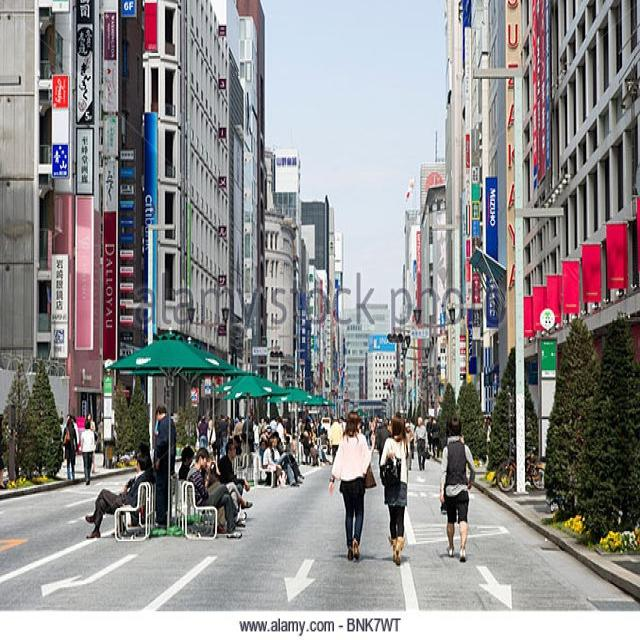body: (196, 404, 445, 474), (326, 409, 377, 562), (84, 450, 159, 540), (438, 412, 478, 564), (183, 445, 247, 539), (378, 415, 410, 567), (177, 443, 228, 534), (202, 443, 254, 522), (152, 403, 177, 530), (216, 439, 251, 497), (273, 436, 306, 485), (270, 435, 300, 488), (61, 418, 78, 483), (79, 419, 95, 488), (262, 436, 285, 484), (84, 410, 100, 475), (325, 414, 344, 466), (376, 419, 392, 479), (414, 415, 429, 472), (297, 419, 314, 465), (0, 410, 9, 491), (210, 418, 224, 467), (205, 409, 217, 461), (481, 412, 492, 466), (241, 414, 255, 454), (428, 416, 441, 459), (134, 442, 152, 472), (55, 416, 65, 464), (62, 410, 78, 440), (424, 413, 435, 455), (197, 413, 209, 449), (406, 416, 415, 461), (233, 432, 243, 468), (274, 414, 286, 444), (251, 416, 260, 455), (231, 432, 243, 456), (362, 416, 372, 444), (367, 418, 376, 448), (233, 415, 245, 435)
